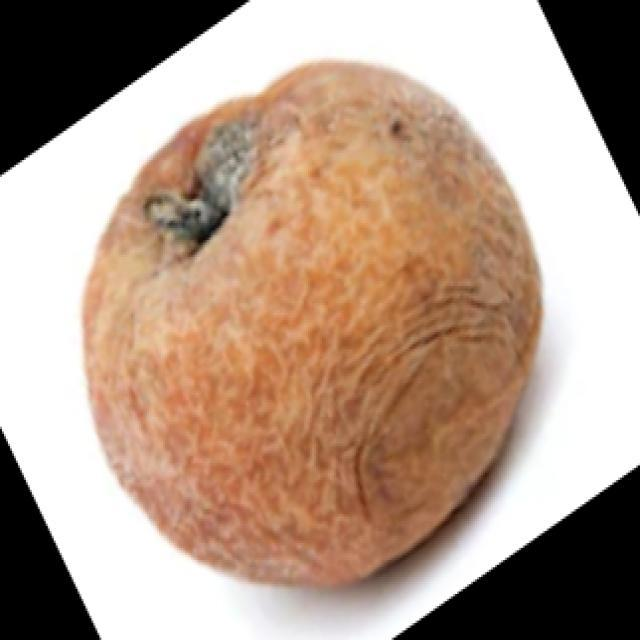Rotten: (63, 53, 550, 600)
